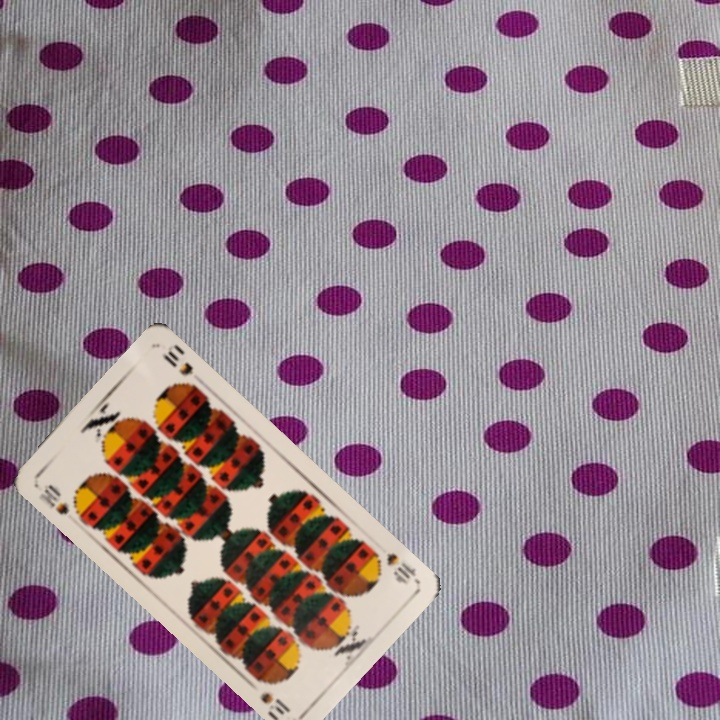S10: (382, 548, 420, 587), (34, 480, 72, 517)
